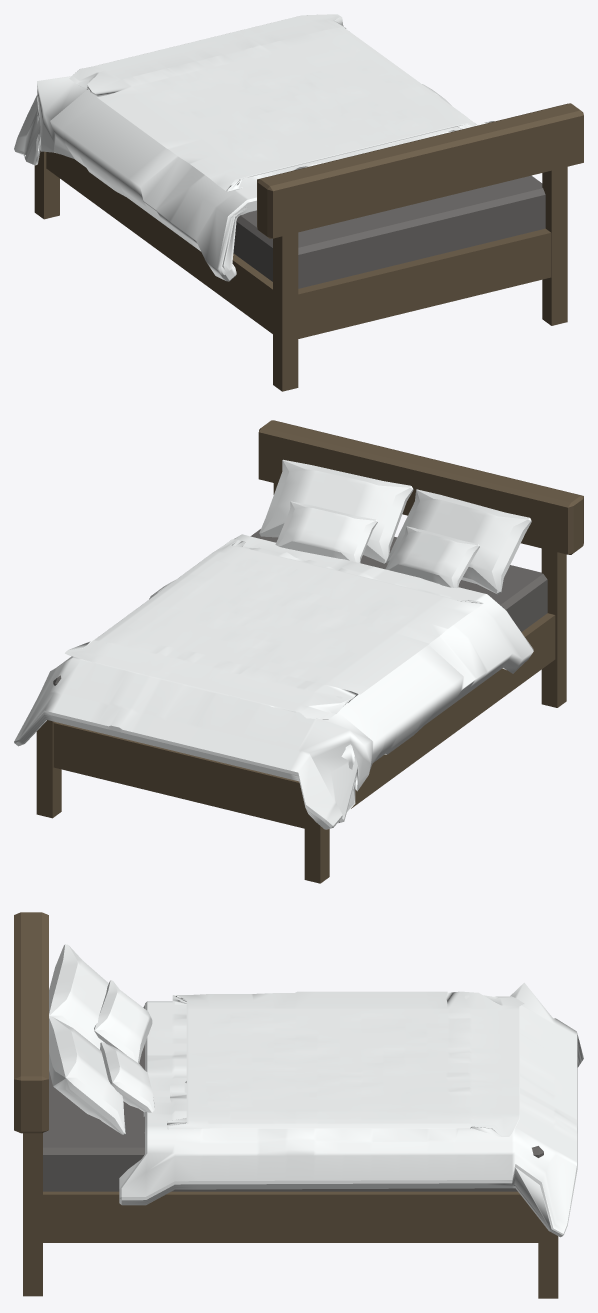
Rendered from bed.fbx.
3 renders of one model, top to bottom at view 1: azimuth 30°, elevation 25°; view 2: azimuth 150°, elevation 25°; view 3: azimuth 270°, elevation 25°, orthographic. The views are drawn at different scales.
Visible parts, largest first — view 1: pCube87, pCube74, pCube79, pCube73, pCube70, pCube72, pCube69, pCube68, pCube66; view 2: pCube79, pCube87, pCube74, pCube67, pCube75, pCube76, pCube72, pCube77, pCube78, pCube73, pCube69, pCube65 (+1 smaller); view 3: pCube87, pCube79, pCube71, pCube73, pCube74, pCube75, pCube76, pCube68, pCube78, pCube77, pCube65.
Part boxes in pixels (<box>): pCube87: <box>69,14,476,191</box>; pCube74: <box>257,103,583,238</box>; pCube79: <box>14,27,476,281</box>; pCube73: <box>233,175,545,288</box>; pCube70: <box>298,228,551,338</box>; pCube72: <box>46,152,272,333</box>; pCube69: <box>273,232,298,391</box>; pCube68: <box>542,167,567,325</box>; pCube66: <box>34,150,59,219</box>; pCube79: <box>14,534,533,829</box>; pCube87: <box>65,539,483,719</box>; pCube74: <box>258,420,583,554</box>; pCube67: <box>53,722,304,828</box>; pCube75: <box>259,459,413,563</box>; pCube76: <box>386,489,531,594</box>; pCube72: <box>351,613,555,808</box>; pCube77: <box>275,501,377,563</box>; pCube78: <box>385,526,479,588</box>; pCube73: <box>53,529,547,685</box>; pCube69: <box>541,548,566,707</box>; pCube65: <box>36,720,61,818</box>; pCube87: <box>167,991,524,1137</box>; pCube79: <box>119,982,583,1237</box>; pCube71: <box>43,1191,538,1242</box>; pCube73: <box>43,1044,543,1191</box>; pCube74: <box>14,912,48,1133</box>; pCube75: <box>49,1016,125,1134</box>; pCube76: <box>49,944,108,1049</box>; pCube68: <box>23,1133,42,1296</box>; pCube78: <box>94,980,152,1063</box>; pCube77: <box>100,1042,154,1112</box>; pCube65: <box>538,1218,558,1298</box>.
Size of the model in its own units: 291 by 181 by 409.
